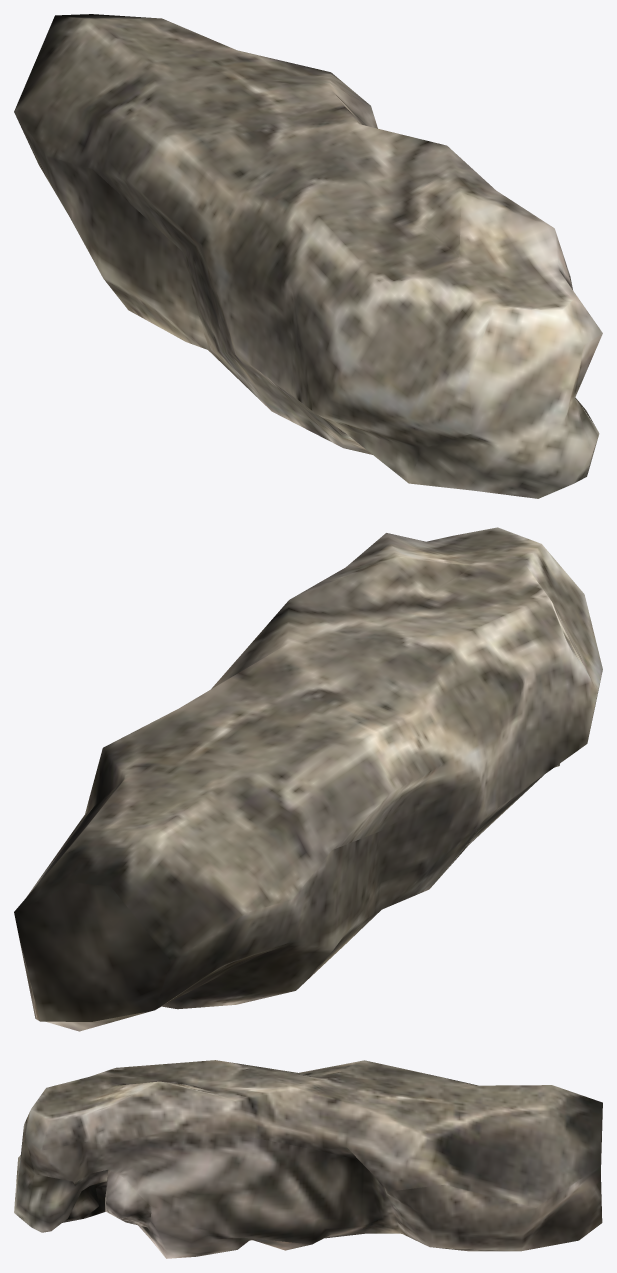
Rendered from idol.obj.
3 views of the same model, one above another, from view 1: azimuth 30°, elevation 25°; view 2: azimuth 150°, elevation 25°; view 3: azimuth 270°, elevation 25° (orthographic). The views are drawn at different scales.
Parts seen in each view (by area): view 1: IdolUnfinished_0; view 2: IdolUnfinished_0; view 3: IdolUnfinished_0.
Part boxes in pixels (x1,y1,x2,y2): IdolUnfinished_0: (14,14,602,498); IdolUnfinished_0: (14,527,602,1031); IdolUnfinished_0: (14,1060,602,1258).
Size of the model in its own units: 0.4947 by 0.4871 by 1.5.
1 material, 1 textured.
